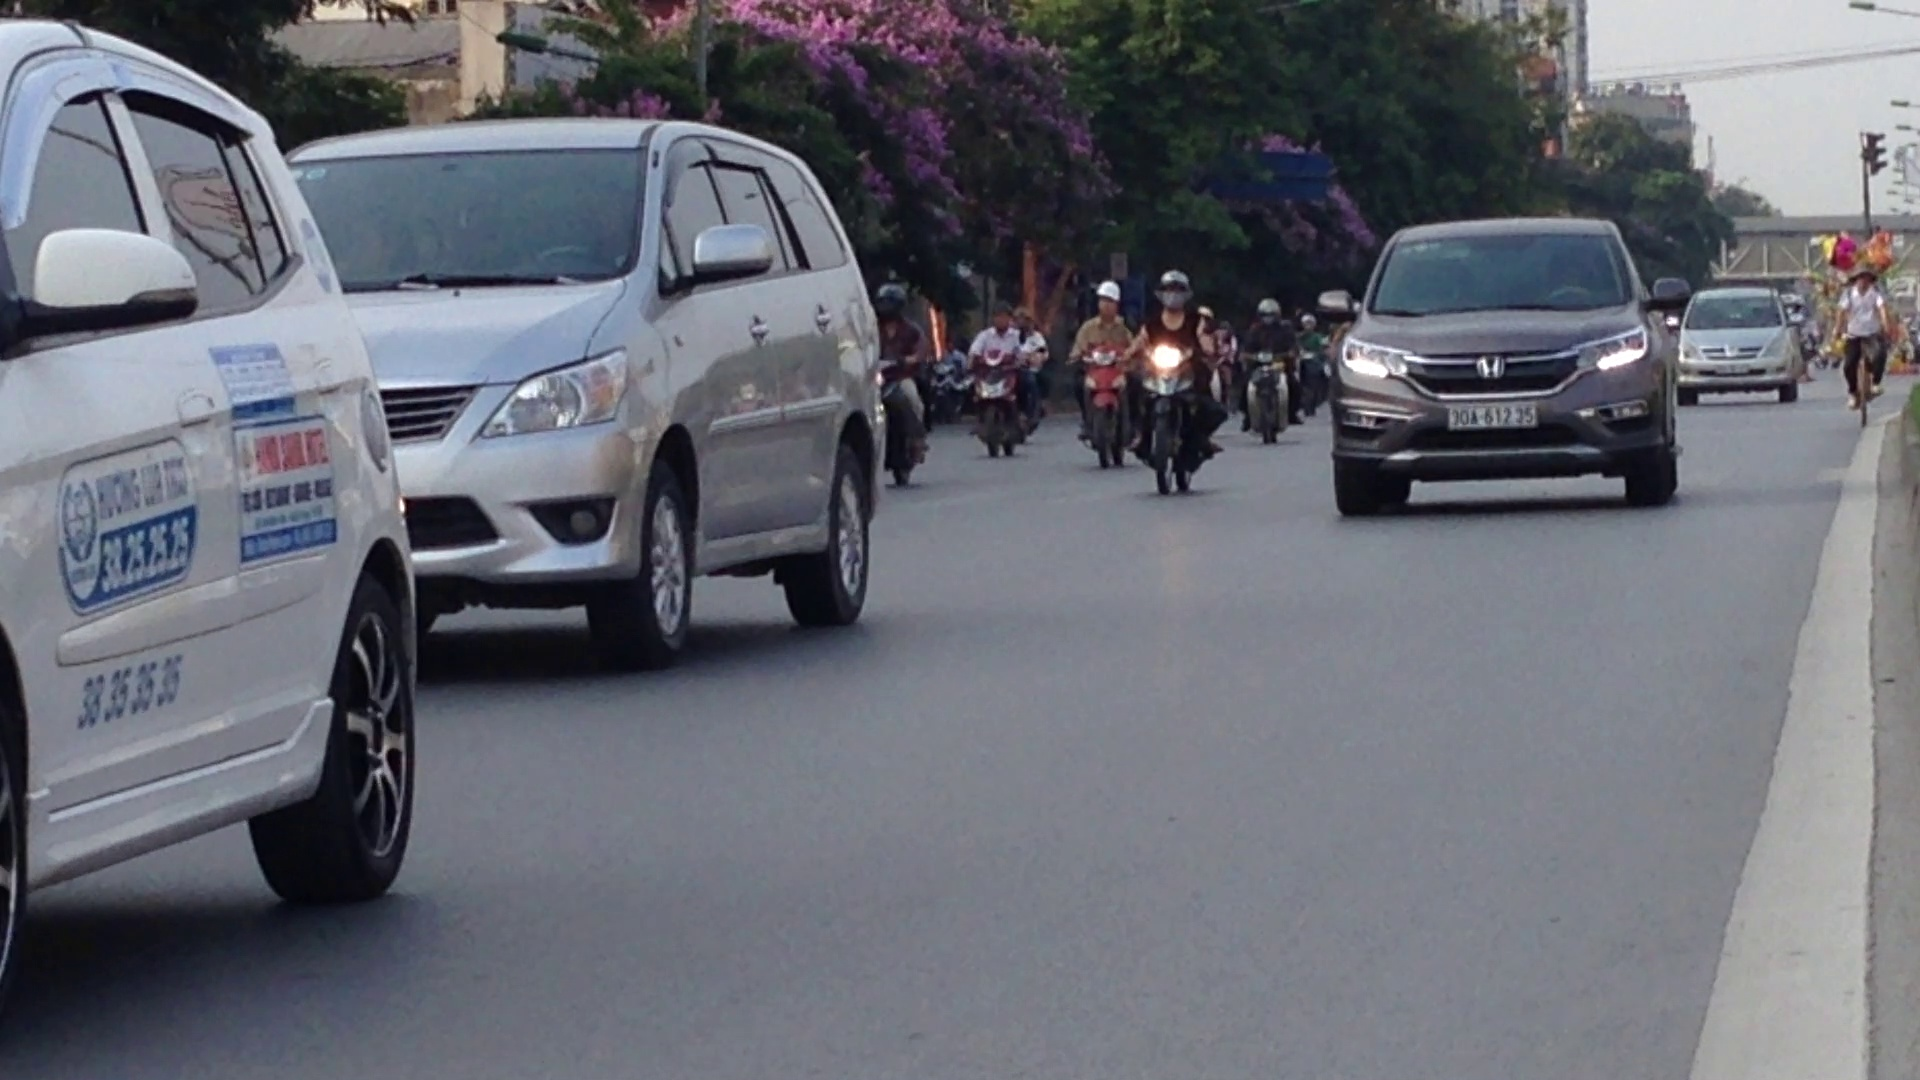vehicle-plate: (1442, 398, 1540, 430)
